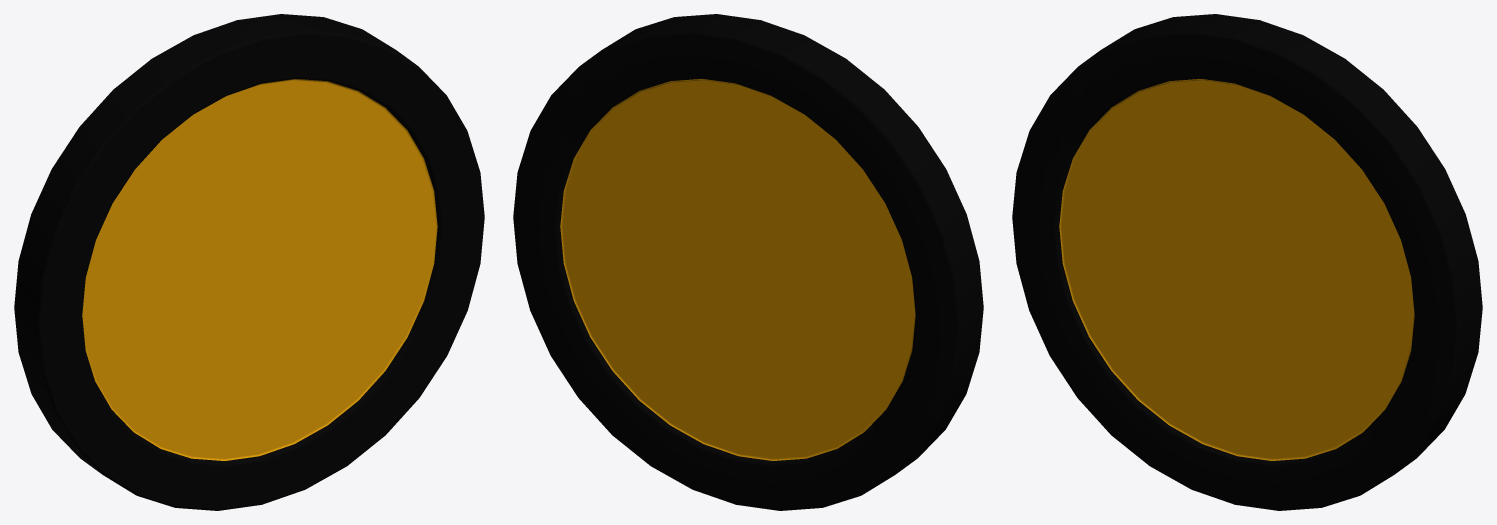
The model's file is Coin Model.fbx.
3 renders of one model, left to right at view 1: azimuth 30°, elevation 25°; view 2: azimuth 150°, elevation 25°; view 3: azimuth 330°, elevation 25°, orthographic.
Visible parts, largest first — view 1: Coin; view 2: Coin; view 3: Coin.
Boxes of the visible parts, x1,y1,x2,y2 form: Coin: (14, 14, 484, 510); Coin: (513, 14, 983, 510); Coin: (1012, 14, 1482, 510).
Bounding box in the file's own units: 200 × 200 × 20.
